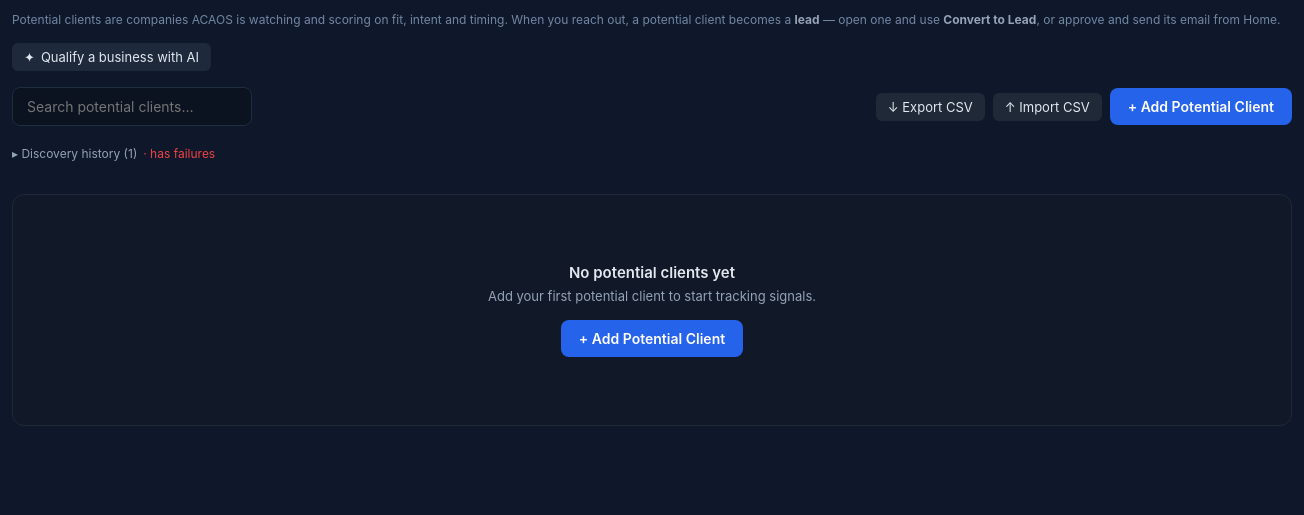
ProspectsView › surfaces discovery run history including provider failures
Click the button "▸ Discovery history (1)· has failures": click(114, 154) [12,146,215,161]
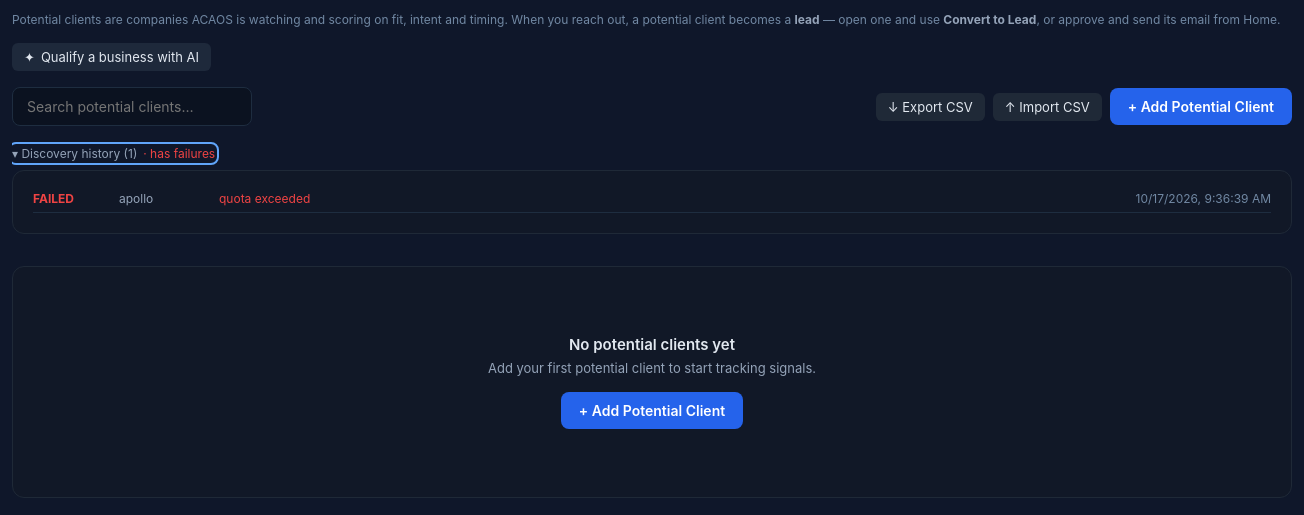
Expected: the text "quota exceeded" is shown, [219,191,310,206]
